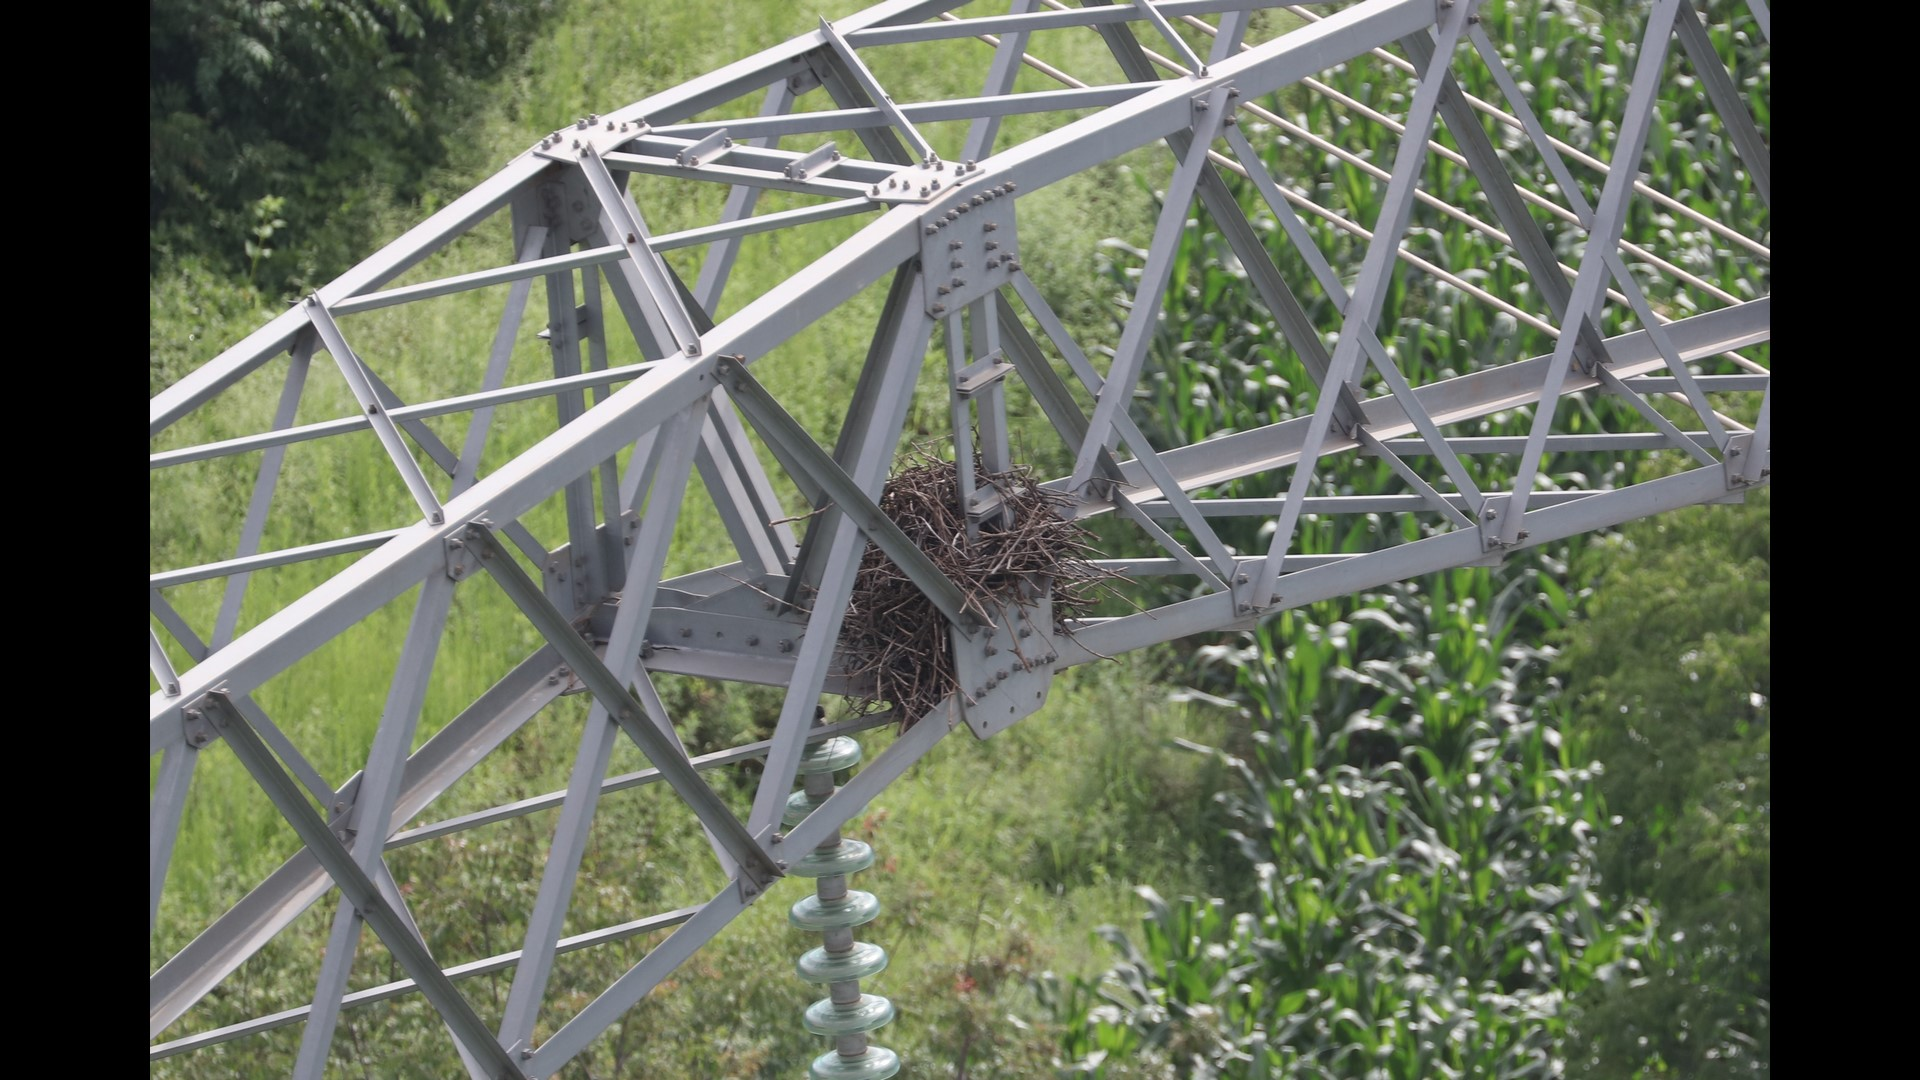niaowo: (807, 455, 1100, 723)
